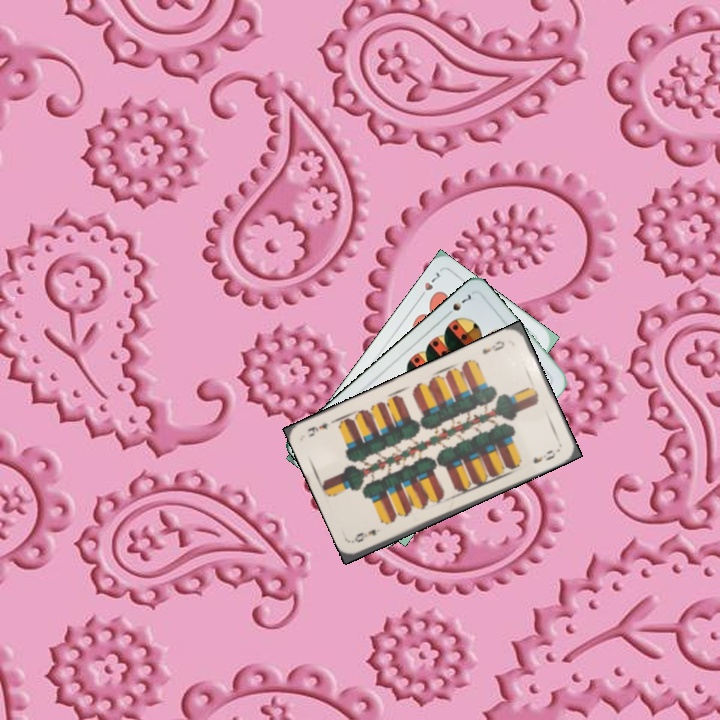E9: (478, 336, 507, 357), (350, 525, 379, 545)
H7: (414, 268, 442, 302)
S7: (441, 290, 474, 320)
